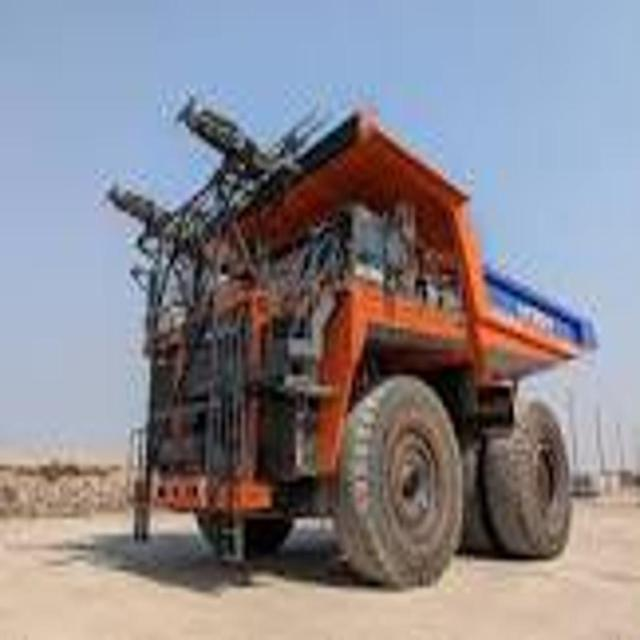dump_truck: (98, 80, 602, 596)
